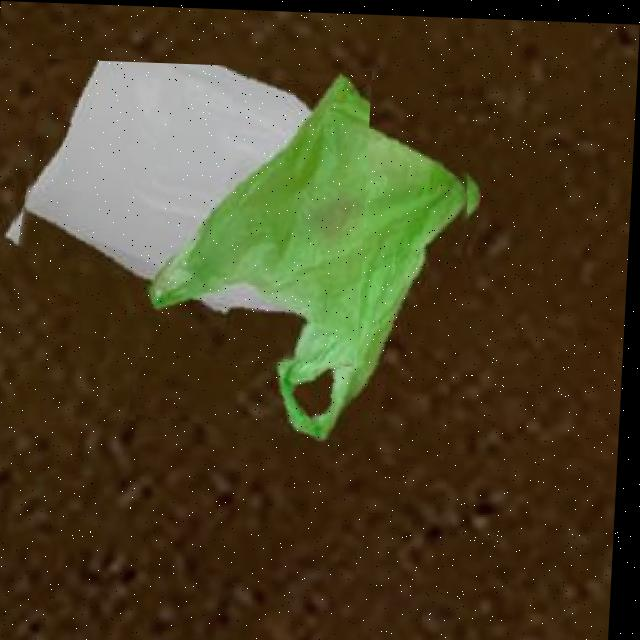plasticcover: (138, 70, 486, 450), (7, 57, 372, 368)
